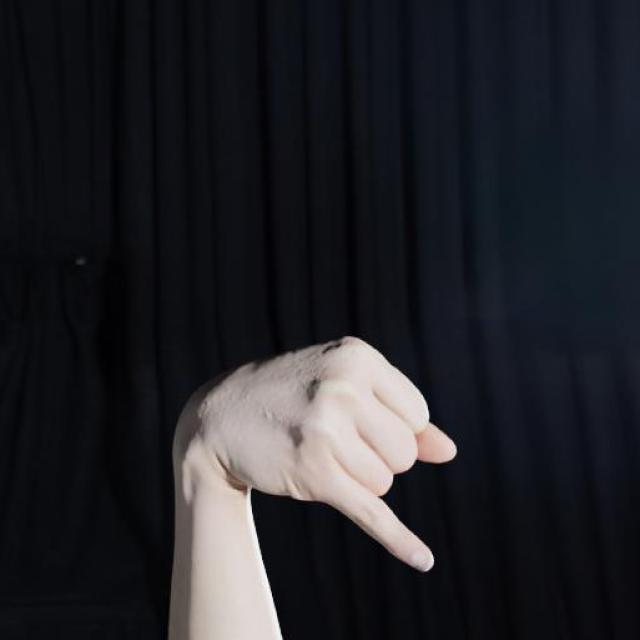J: (170, 332, 459, 573)
